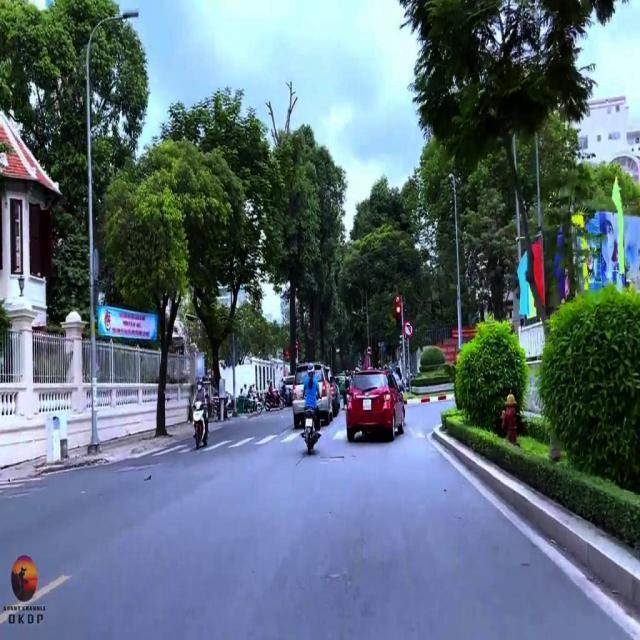106-cam-oto-tai: (367, 346, 372, 355)
123a-cam-re-trai: (402, 319, 414, 336)
